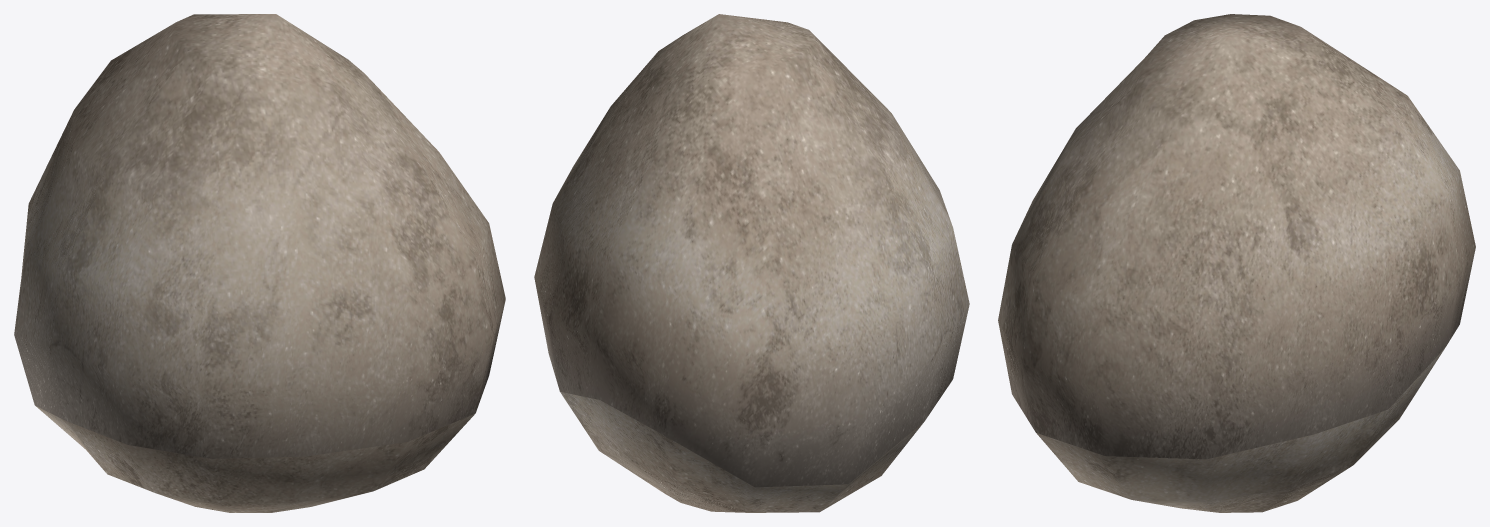
Rendered from STONE_(B).fbx.
3 renders of one model, left to right at view 1: azimuth 30°, elevation 25°; view 2: azimuth 150°, elevation 25°; view 3: azimuth 270°, elevation 25°, orthographic.
Visible parts, largest first — view 1: pSphere62; view 2: pSphere62; view 3: pSphere62.
Boxes of the visible parts, left/top/right/bottom form: pSphere62: left=14, top=14, right=505, bottom=512; pSphere62: left=534, top=14, right=969, bottom=512; pSphere62: left=998, top=14, right=1475, bottom=512.
Bounding box in the file's own units: 236 × 270 × 252.
